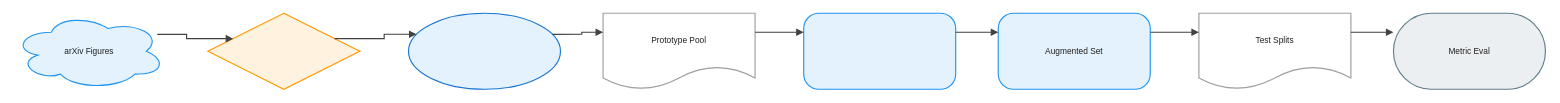
Image size: 1560x103. Some labels were removed from this diagram. The shapes that lost their labels are listed below. From the top down, each one's box as (x1, y1, x2, y2) in pixels, then its label:
(207, 12, 360, 90): Visual Filter
(408, 12, 561, 90): Expert Voting
(803, 12, 956, 90): Human Triplets
